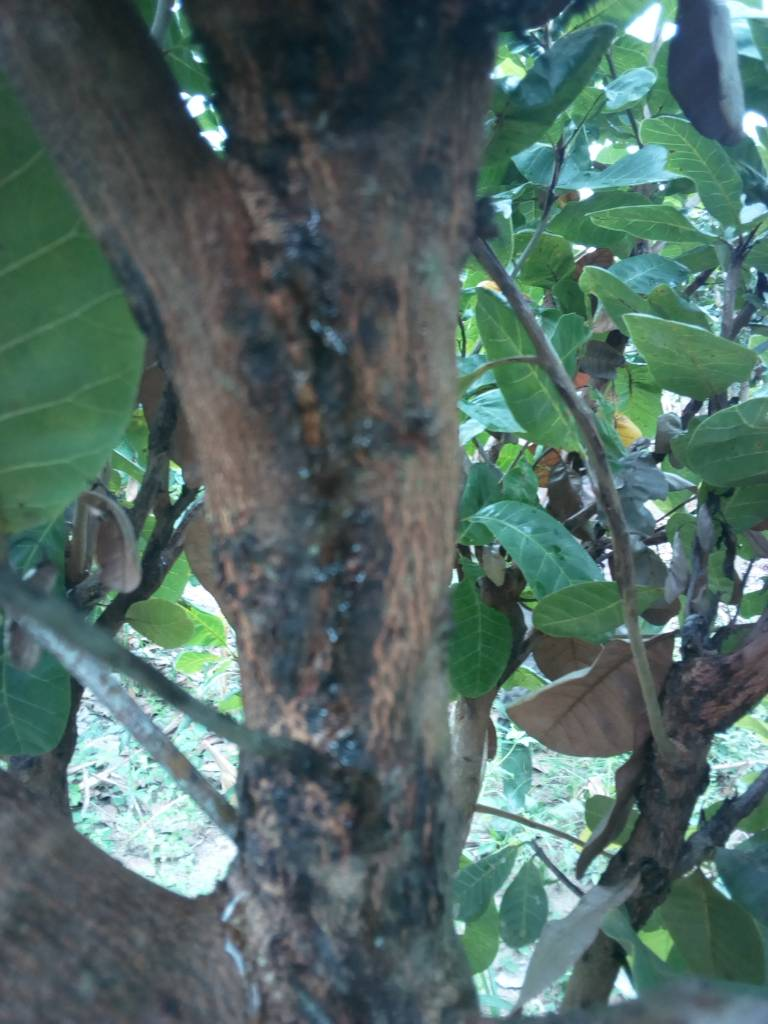Gommose: (244, 260, 446, 989)
